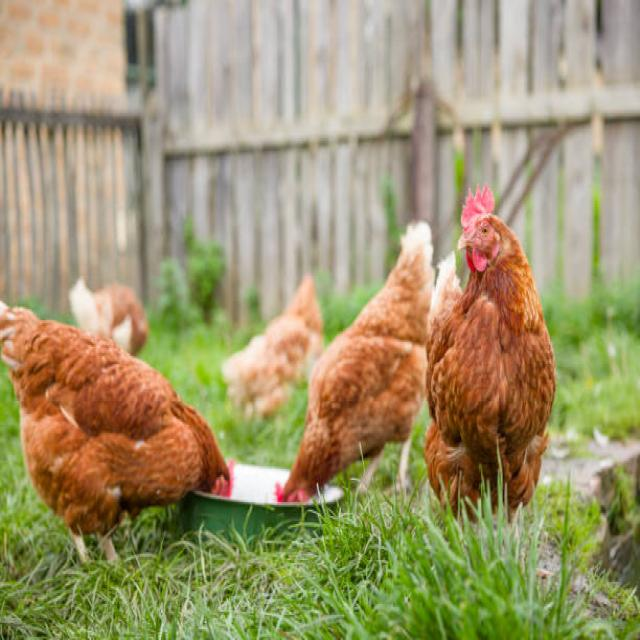Chicken: (5, 293, 234, 588), (426, 200, 600, 548), (276, 216, 439, 550)
